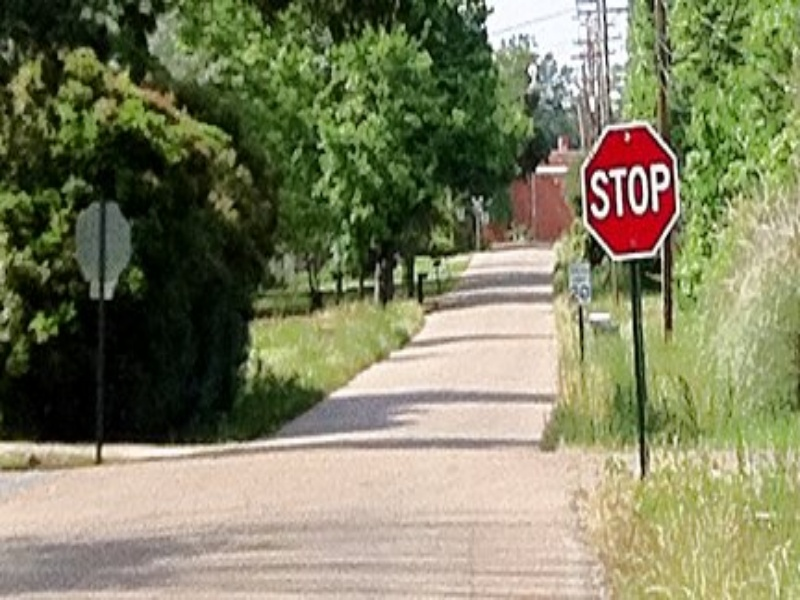stop sign: (576, 122, 685, 263)
